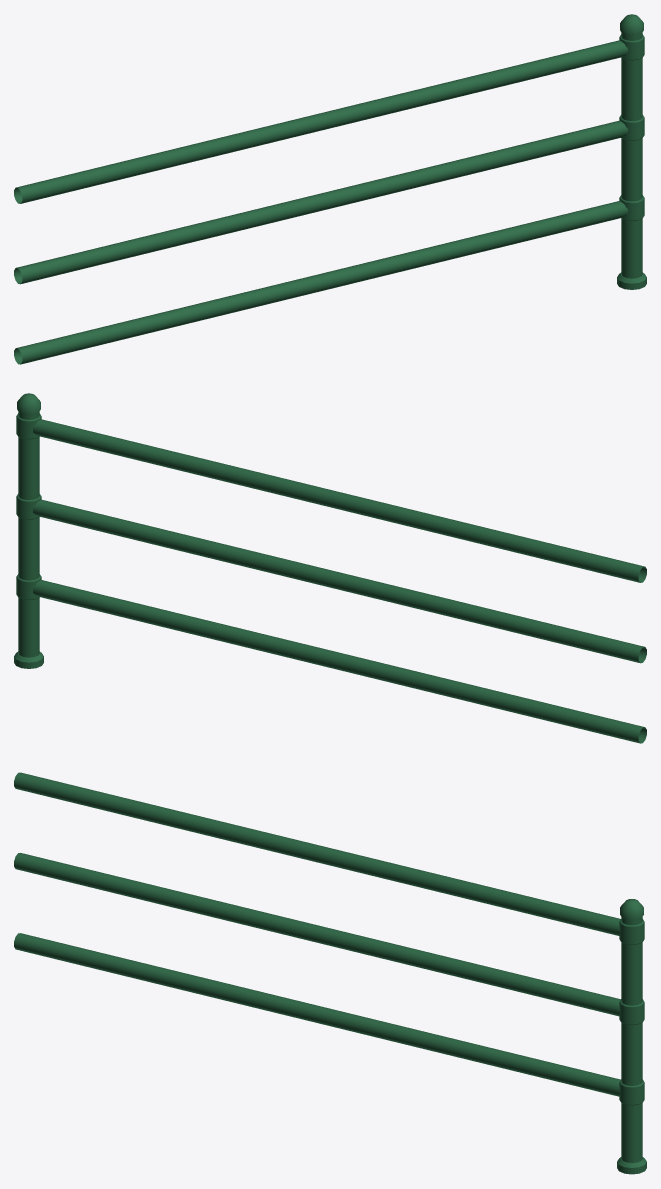
The model's file is pedestrian_railing_2m_pipe_green.fbx.
3 views of the same model, one above another, from view 1: azimuth 30°, elevation 25°; view 2: azimuth 150°, elevation 25°; view 3: azimuth 330°, elevation 25° (orthographic).
Visible parts, largest first — view 1: pedestrian_railing_2m_pipe_green; view 2: pedestrian_railing_2m_pipe_green; view 3: pedestrian_railing_2m_pipe_green.
Part boxes in pixels (x1,y1,x2,y2): pedestrian_railing_2m_pipe_green: (14, 14, 646, 364); pedestrian_railing_2m_pipe_green: (14, 393, 646, 743); pedestrian_railing_2m_pipe_green: (14, 772, 646, 1174).
Size of the model in its own units: 2.04 by 0.835 by 0.0846.
